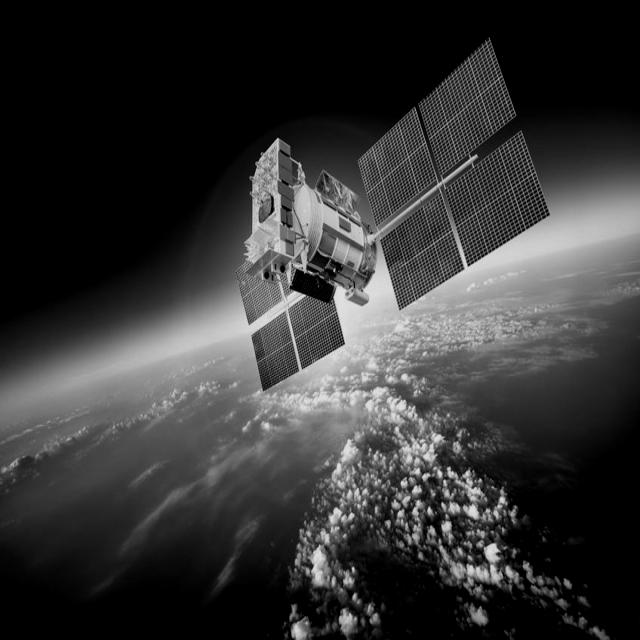medium_debris: (197, 37, 548, 397)
